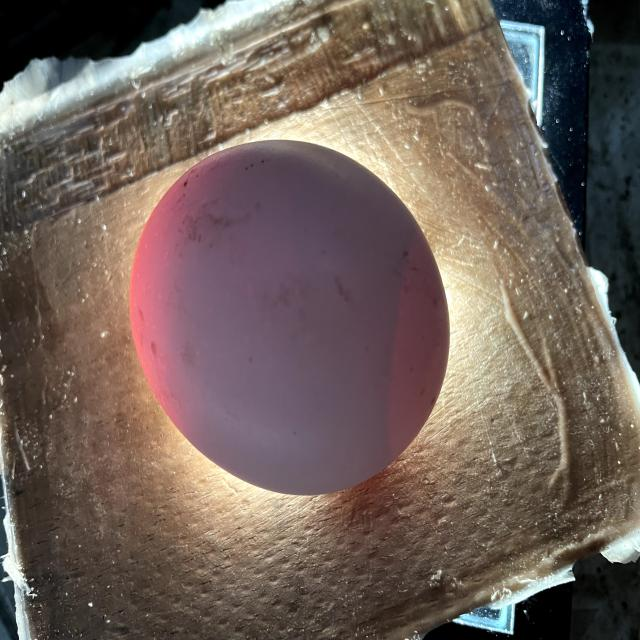fertile: (130, 140, 449, 495)
